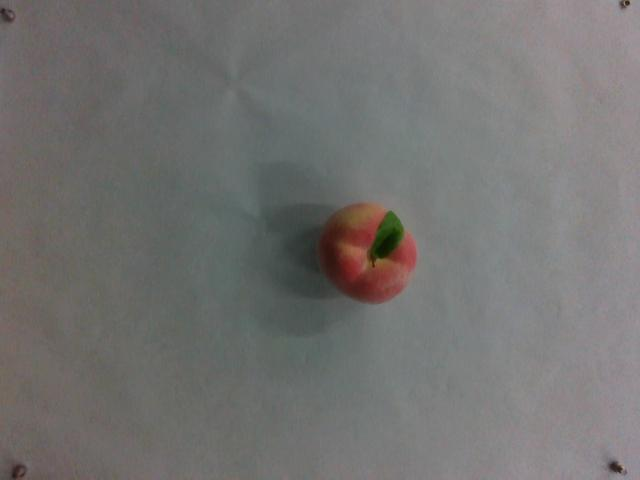peach: (314, 201, 418, 306)
